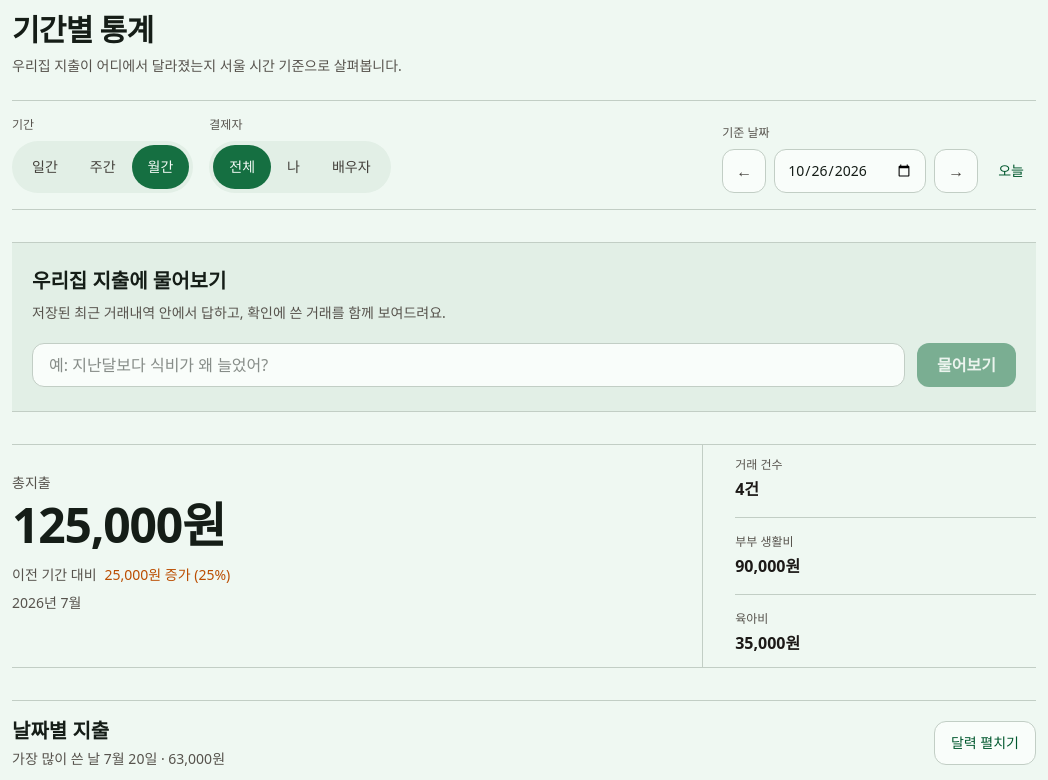
Test: SpendingStatisticsPanel › reloads every summary for the selected payer
The width and height of the screenshot is (1048, 780).
Expected: the text "125,000원" is shown, [12,492,225,557]
Click the button "배우자". click: (351, 167)
box: [316,145,387,189]
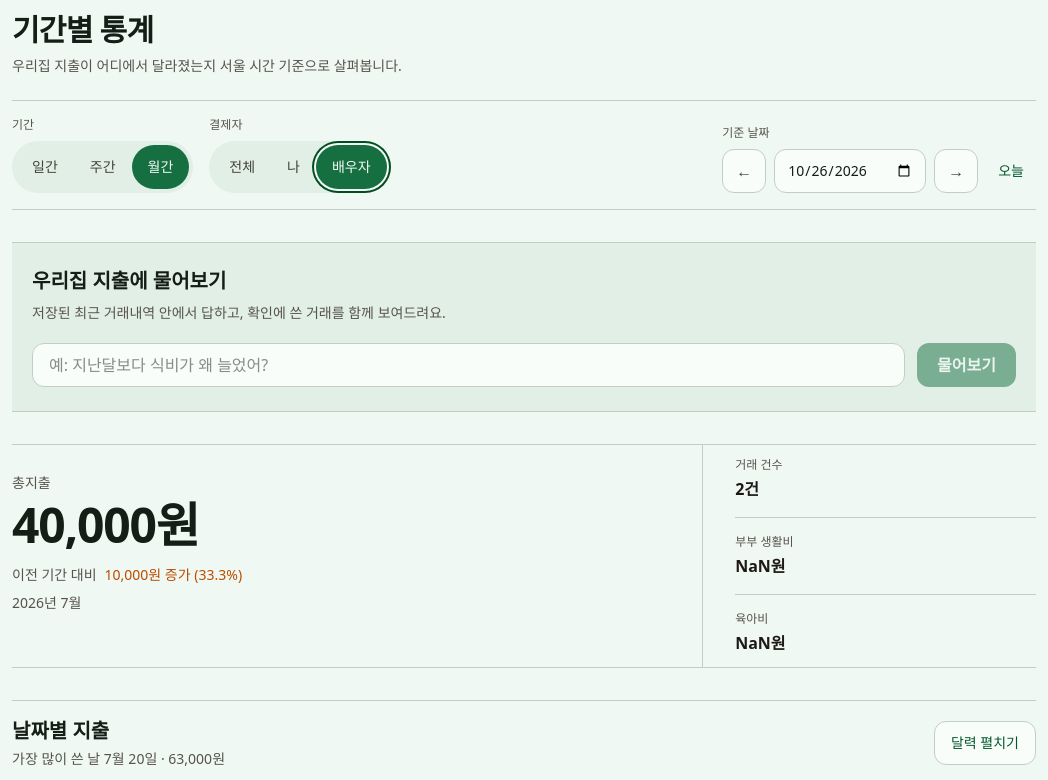
Expected: the text "40,000원" is shown, [12,492,199,557]
